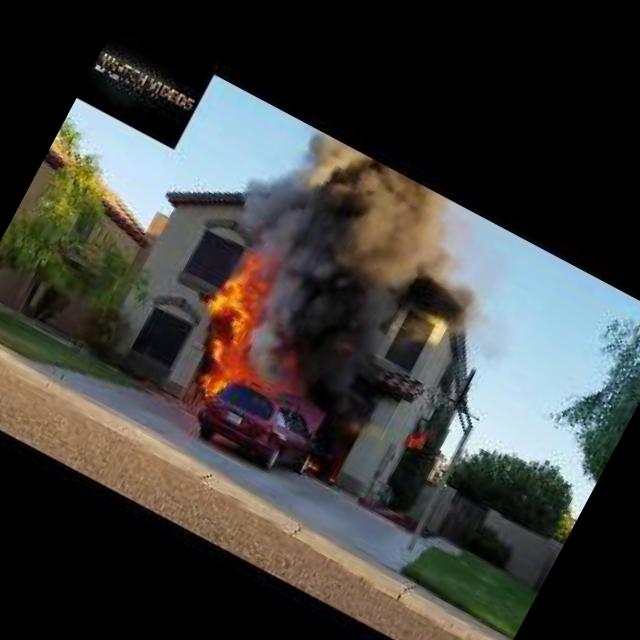fire: (166, 240, 300, 404), (397, 419, 435, 458)
smoke: (253, 158, 507, 446), (222, 113, 366, 277)
